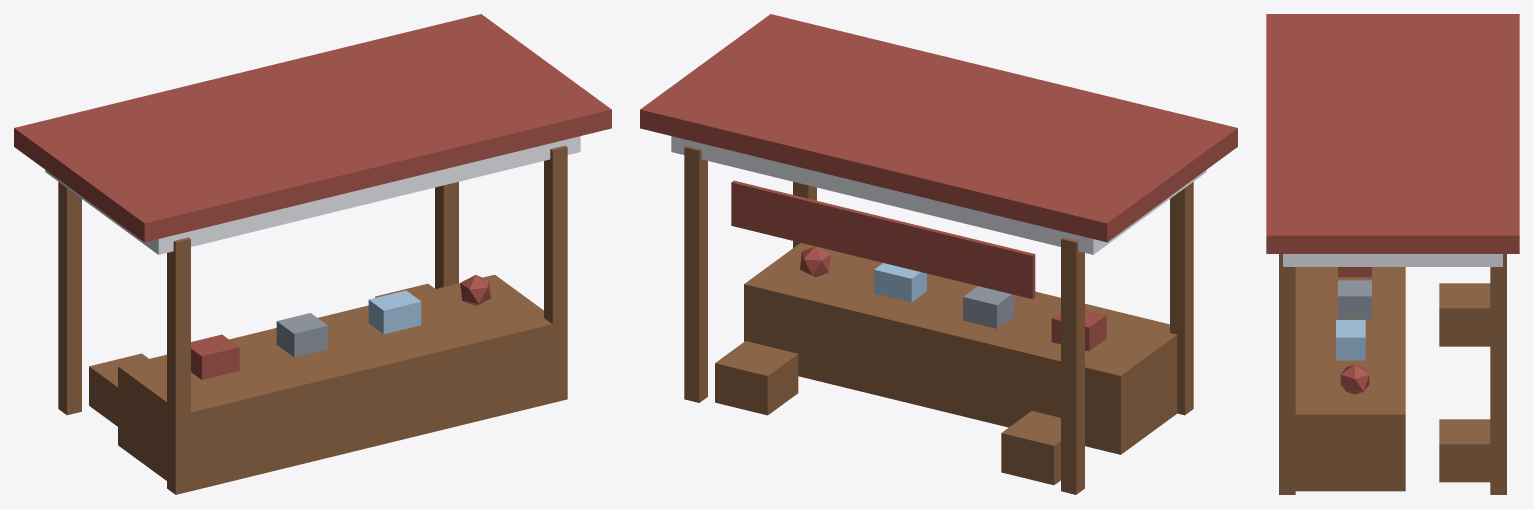
File: market_stall.fbx
3 renders of one model, left to right at view 1: azimuth 30°, elevation 25°; view 2: azimuth 150°, elevation 25°; view 3: azimuth 270°, elevation 25°, orthographic. The views are drawn at different scales.
Visible parts, largest first — view 1: market_stall; view 2: market_stall; view 3: market_stall.
Part boxes in pixels (x1,y1,x2,y2): market_stall: (14,14,611,494); market_stall: (640,14,1237,494); market_stall: (1266,14,1519,494).
Bounding box in the file's own units: 1100 × 642 × 532.
